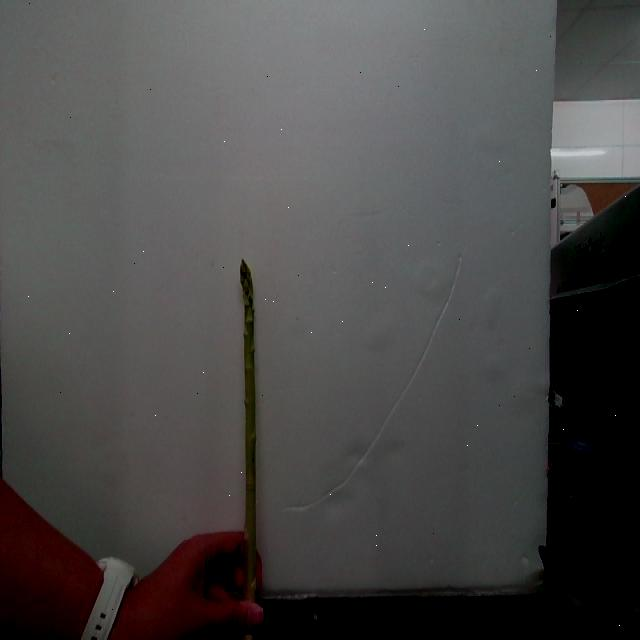aspargus: (240, 261, 263, 602)
